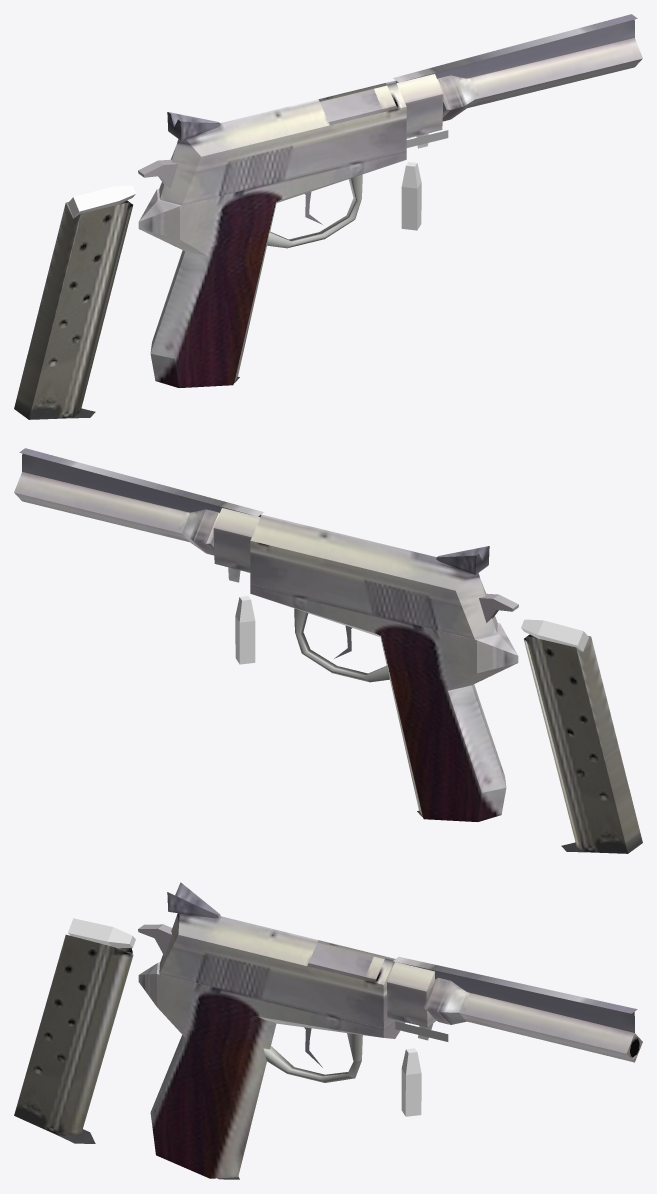
The picture shows the model from 3 angles, top to bottom: view 1: azimuth 30°, elevation 25°; view 2: azimuth 150°, elevation 25°; view 3: azimuth 330°, elevation 25°; orthographic projection.
Parts seen in each view (by area): view 1: HCBody, HCSlide, HCMagFull, HighCaliberBullet, HC_Trigger&Hammer; view 2: HCBody, HCSlide, HCMagFull, HighCaliberBullet, HC_Trigger&Hammer; view 3: HCBody, HCSlide, HCMagFull, HighCaliberBullet, HC_Trigger&Hammer, Plane.
Boxes of the visible parts, x1,y1,x2,y2 form: HCBody: (138, 14, 642, 387); HCSlide: (159, 80, 406, 205); HCMagFull: (14, 185, 135, 419); HighCaliberBullet: (401, 162, 421, 230); HC_Trigger&Hammer: (138, 159, 322, 224); HCBody: (14, 448, 518, 821); HCSlide: (250, 514, 497, 639); HCMagFull: (521, 619, 642, 853); HighCaliberBullet: (235, 596, 255, 664); HC_Trigger&Hammer: (334, 593, 518, 658); HCBody: (138, 943, 642, 1178); HCSlide: (159, 882, 396, 1029); HCMagFull: (14, 918, 135, 1143); HighCaliberBullet: (401, 1048, 421, 1116); HC_Trigger&Hammer: (138, 924, 322, 1067); Plane: (395, 1021, 448, 1041).
Size of the model in its own units: 4.01 by 1.73 by 0.2857.
6 materials, 4 textured.
